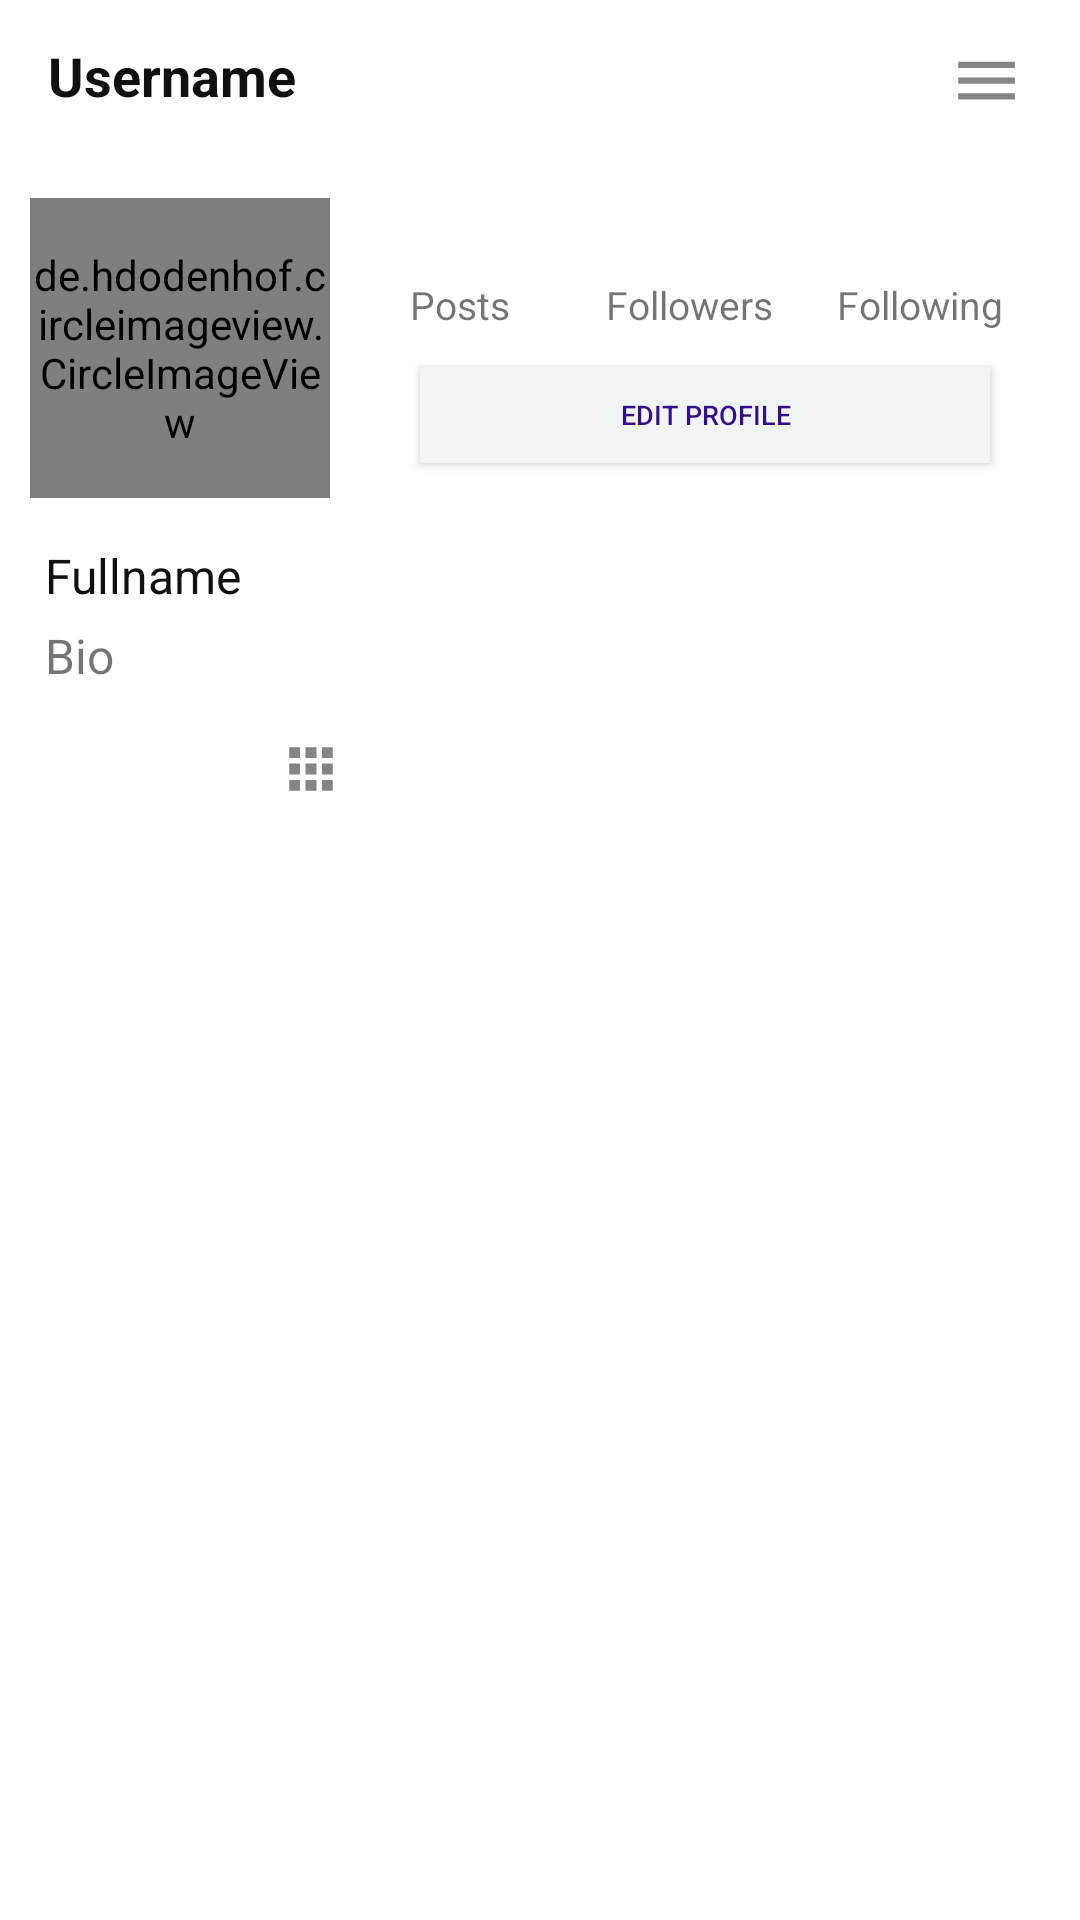

Where icons sit on this 1080x1920 app screen, as (x1, y1, x2, y2):
options: (958, 61, 1015, 100)
